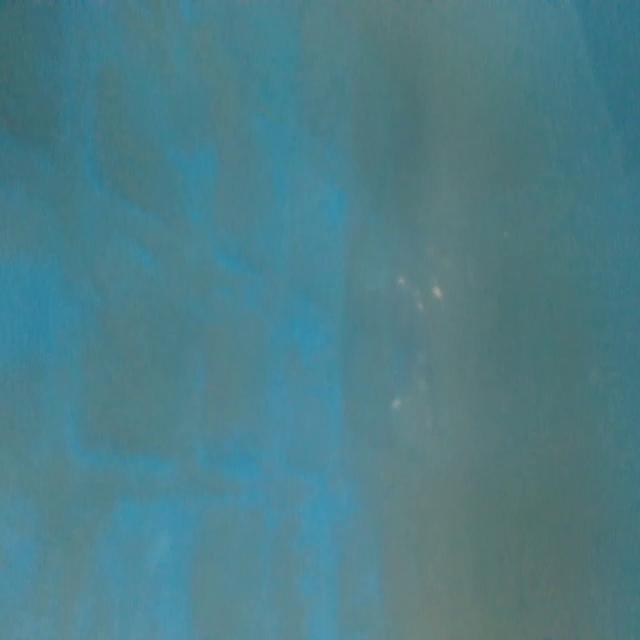plastic bags: (342, 169, 458, 516)
